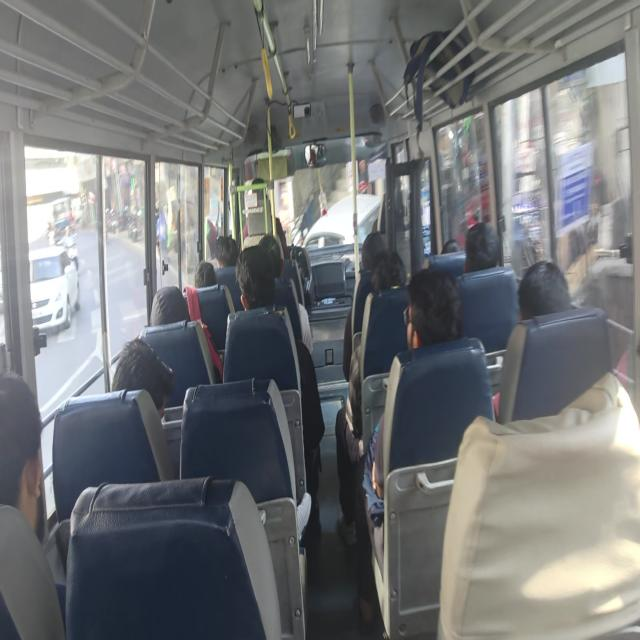person: (437, 370, 639, 638), (359, 267, 463, 630), (233, 244, 325, 540), (335, 248, 407, 546), (0, 371, 66, 638), (492, 259, 573, 420), (0, 371, 44, 537), (257, 233, 313, 353), (342, 231, 386, 381), (111, 337, 175, 421), (517, 260, 572, 322), (463, 221, 502, 273), (150, 285, 190, 326), (214, 235, 239, 268), (194, 260, 216, 288)
